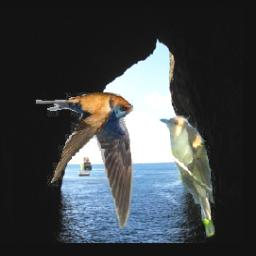Cuckoo: (157, 115, 216, 241)
Swallow: (36, 93, 134, 229)
